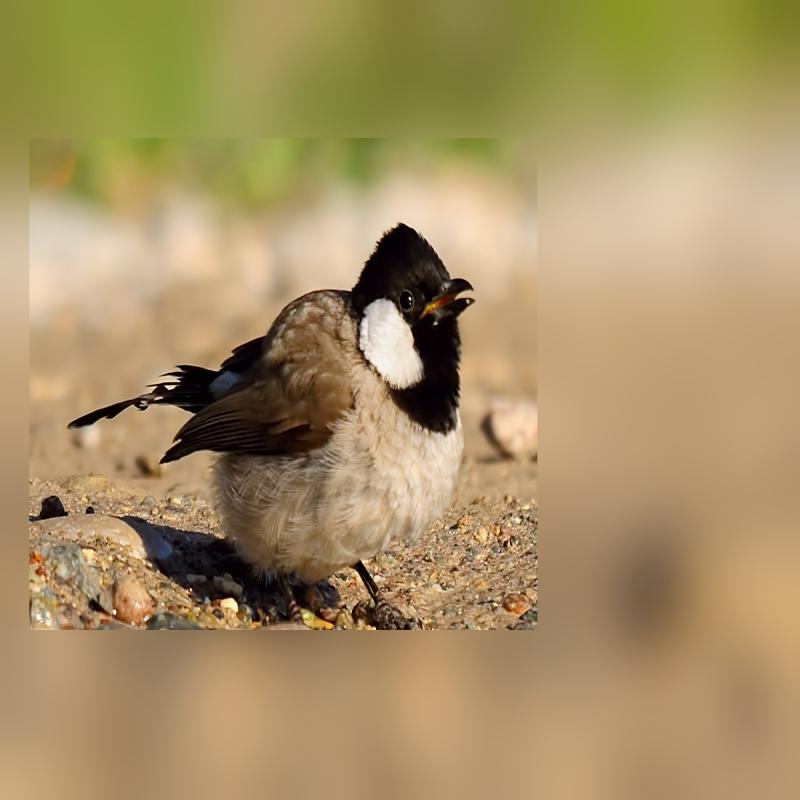white-eared bulbul: (57, 210, 487, 624)
